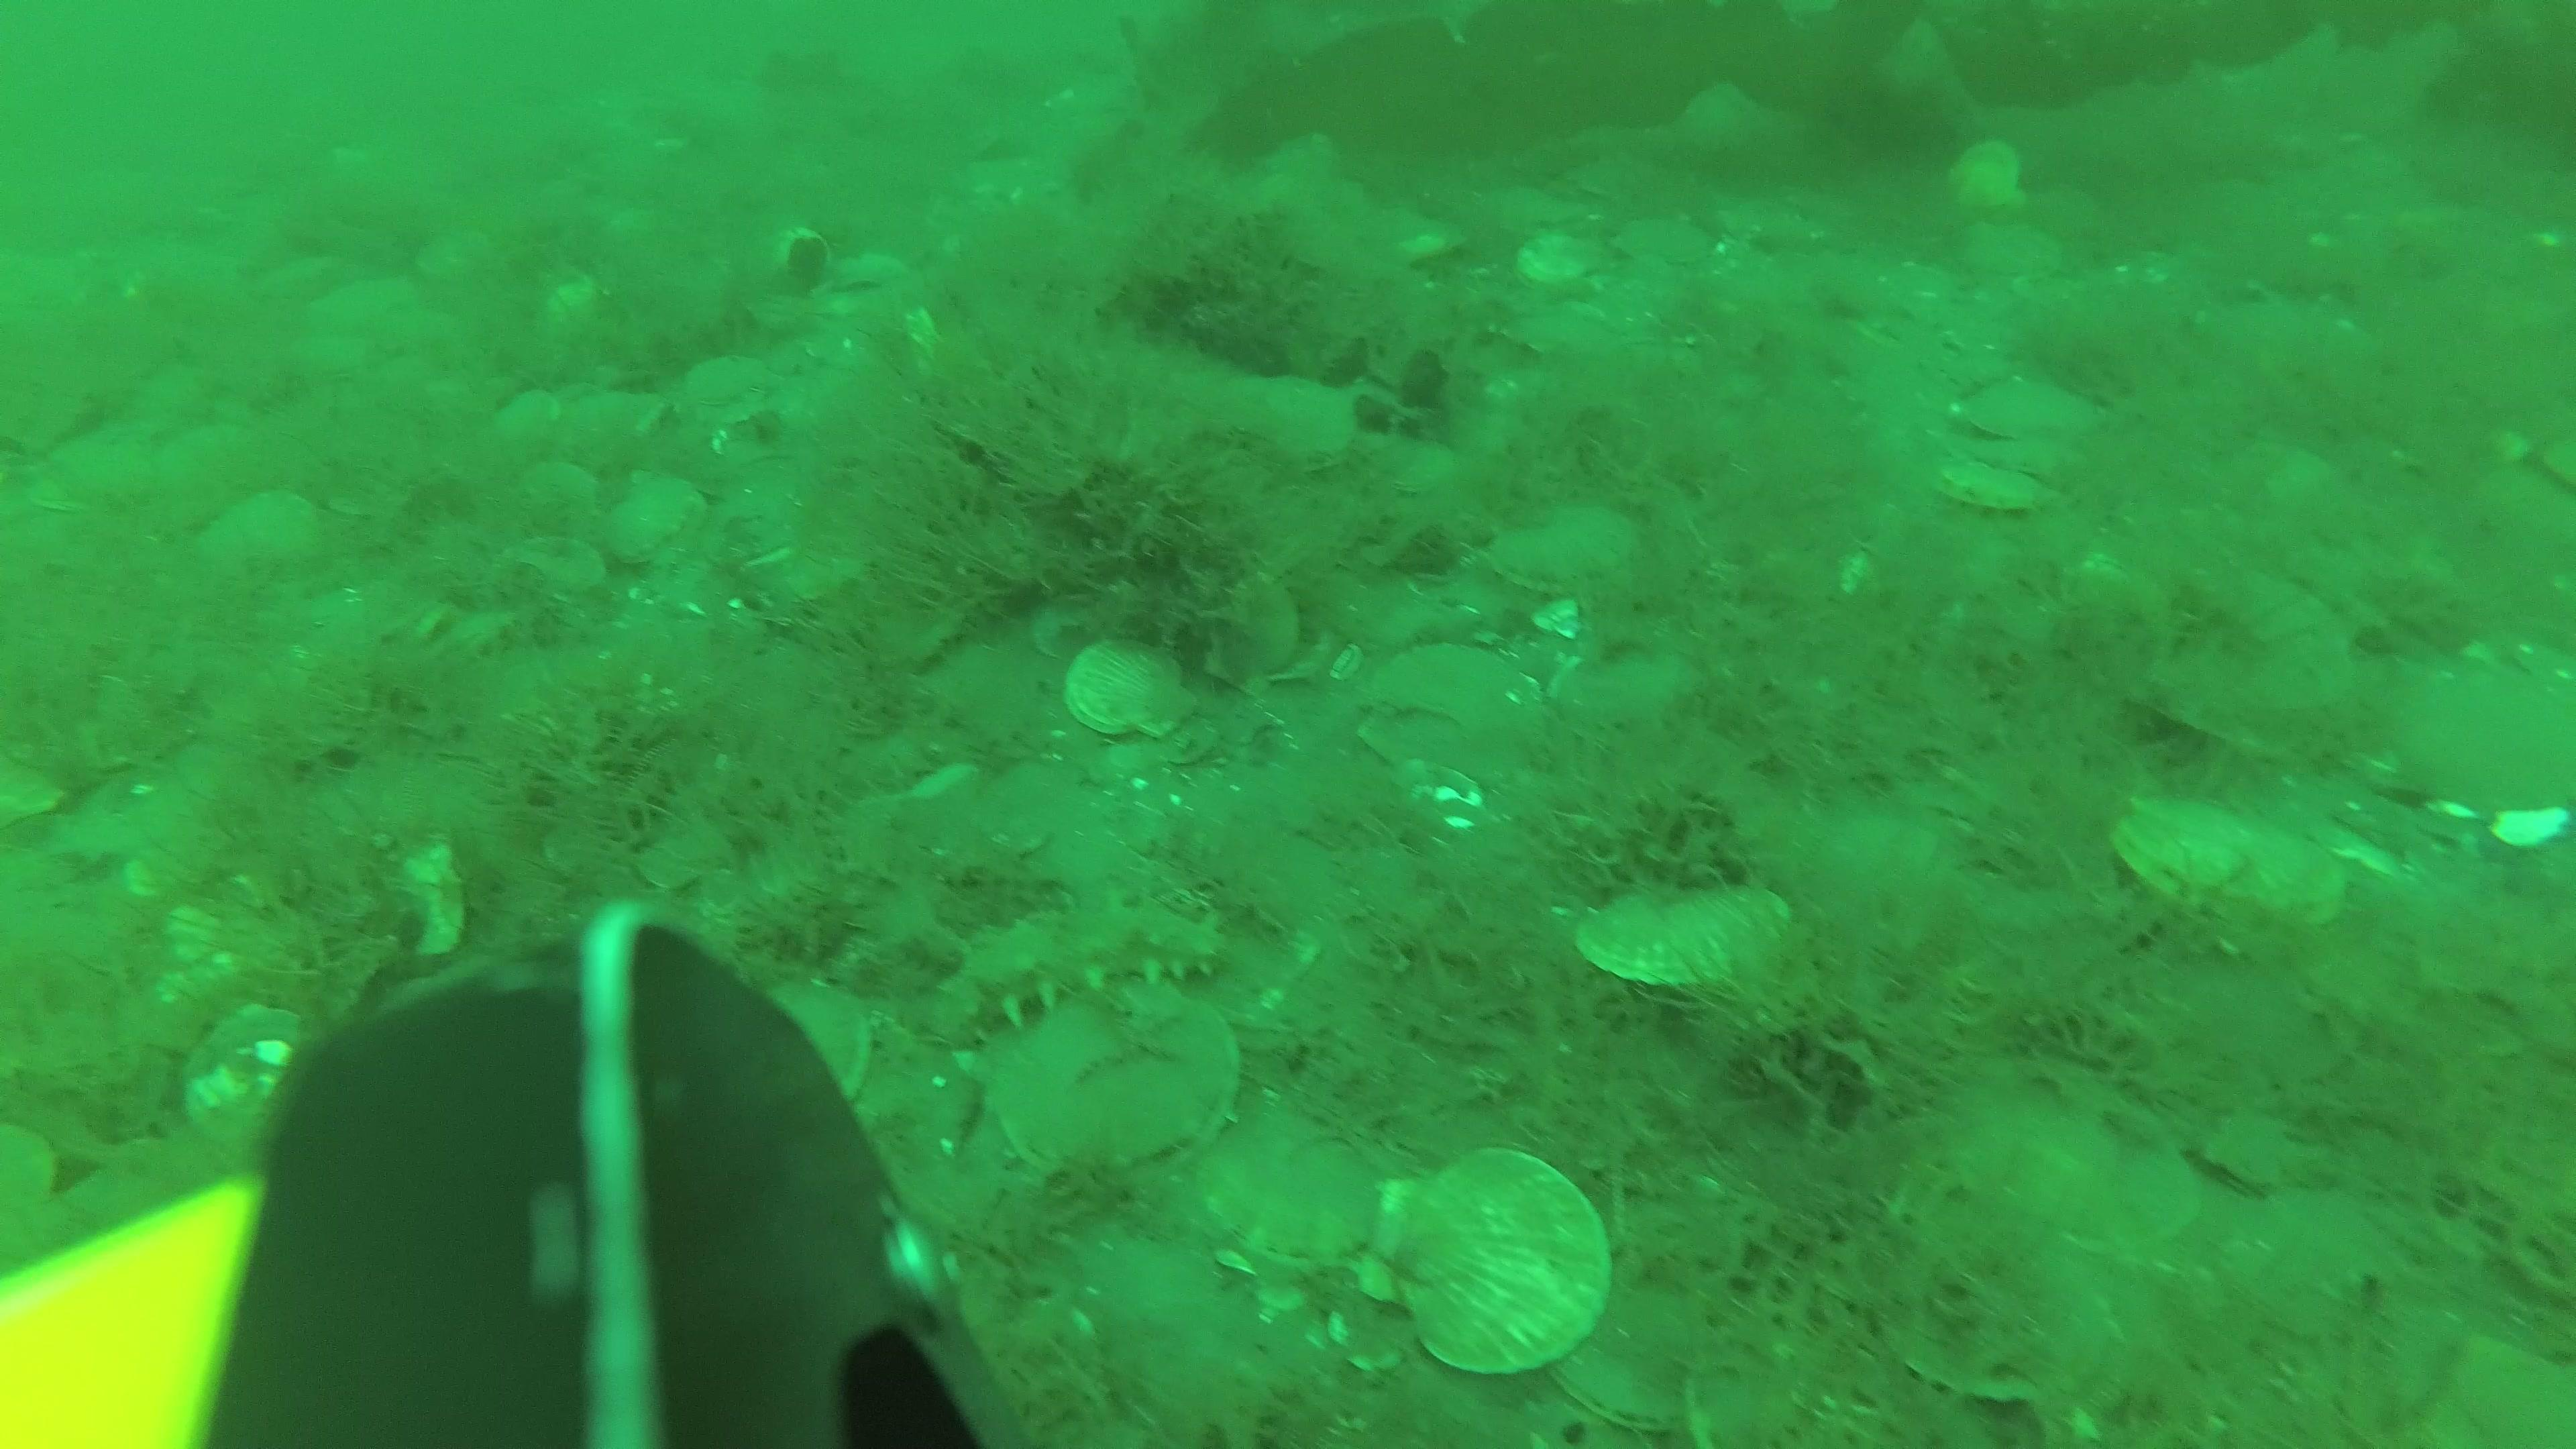holothurian: (931, 902, 1171, 1042)
scallop: (1380, 1141, 1614, 1389), (1944, 1049, 2192, 1260), (1879, 1203, 2112, 1405), (1005, 985, 1221, 1184), (2118, 561, 2337, 748), (1196, 1097, 1392, 1288), (2118, 784, 2342, 943), (2399, 640, 2576, 839), (1562, 1253, 1736, 1437), (2229, 1187, 2420, 1339), (1587, 878, 1796, 1005), (1355, 646, 1532, 777), (1060, 637, 1196, 747), (1497, 495, 1635, 602), (1226, 373, 1355, 483), (186, 1016, 310, 1127), (1182, 580, 1302, 694), (196, 488, 313, 586), (1552, 653, 1697, 731), (596, 467, 702, 571), (1955, 373, 2089, 453), (513, 541, 616, 617), (1966, 225, 2070, 294), (1948, 469, 2043, 533), (1951, 136, 2029, 214), (1980, 435, 2072, 497)
